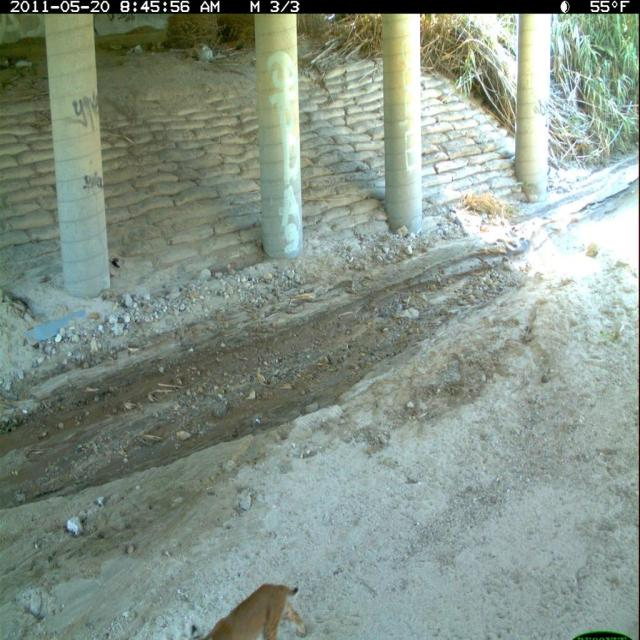bobcat: (191, 582, 310, 640)
